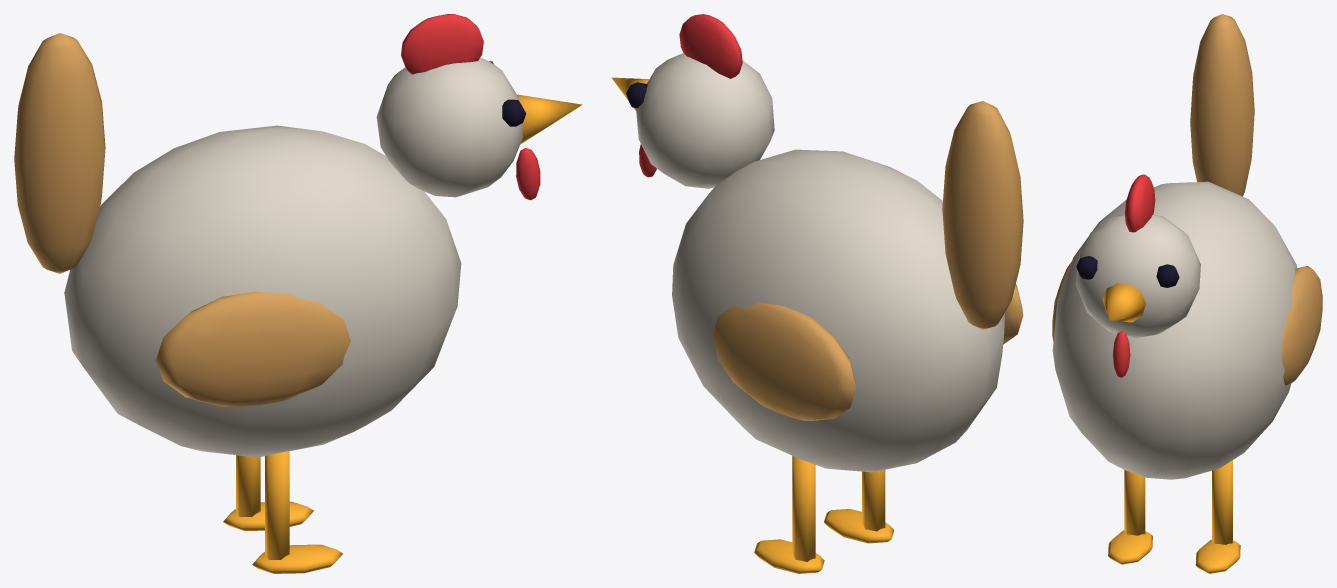
Rendered from slepice.glb.
3 renders of one model, left to right at view 1: azimuth 30°, elevation 25°; view 2: azimuth 150°, elevation 25°; view 3: azimuth 270°, elevation 25°, orthographic. The views are drawn at different scales.
Visible parts, largest first — view 1: Sphere, Sphere.003, Sphere.001, Sphere.004, Sphere.005, Cylinder, Sphere.009, Cone, Cylinder.001, Sphere.010, Sphere.006; view 2: Sphere, Sphere.003, Sphere.004, Sphere.002, Sphere.005, Cylinder.001, Sphere.010, Sphere.009, Cylinder, Sphere.001; view 3: Sphere, Sphere.004, Sphere.003, Sphere.002, Cylinder.001, Cone, Cylinder, Sphere.005, Sphere.009, Sphere.010, Sphere.006, Sphere.008 (+1 smaller).
Part boxes in pixels (box(x1,y1,x2,y2)): Sphere: box(64, 125, 461, 457); Sphere.003: box(14, 33, 105, 273); Sphere.001: box(155, 291, 350, 406); Sphere.004: box(376, 57, 522, 197); Sphere.005: box(401, 14, 483, 74); Cylinder: box(265, 451, 289, 559); Sphere.009: box(252, 544, 342, 573); Cone: box(517, 94, 582, 144); Cylinder.001: box(236, 455, 260, 517); Sphere.010: box(223, 501, 313, 530); Sphere.006: box(516, 148, 540, 200); Sphere: box(672, 149, 1004, 472); Sphere.003: box(942, 101, 1023, 329); Sphere.004: box(636, 53, 774, 188); Sphere.002: box(712, 302, 855, 420); Sphere.005: box(679, 14, 742, 78); Cylinder.001: box(792, 456, 815, 561); Sphere.010: box(754, 539, 824, 573); Sphere.009: box(824, 509, 894, 543); Cylinder: box(862, 470, 885, 531); Sphere.001: box(1003, 284, 1023, 344); Sphere: box(1052, 181, 1297, 479); Sphere.004: box(1075, 214, 1200, 337); Sphere.003: box(1190, 14, 1254, 196); Sphere.002: box(1281, 266, 1322, 385); Cylinder.001: box(1212, 460, 1232, 544); Cone: box(1102, 283, 1146, 322); Cylinder: box(1124, 470, 1145, 535); Sphere.005: box(1124, 174, 1155, 232); Sphere.009: box(1108, 530, 1152, 564); Sphere.010: box(1195, 539, 1240, 573); Sphere.006: box(1113, 330, 1130, 377); Sphere.008: box(1156, 264, 1179, 287).
Bounding box in the file's own units: 0.5436 × 0.566 × 0.2991.
